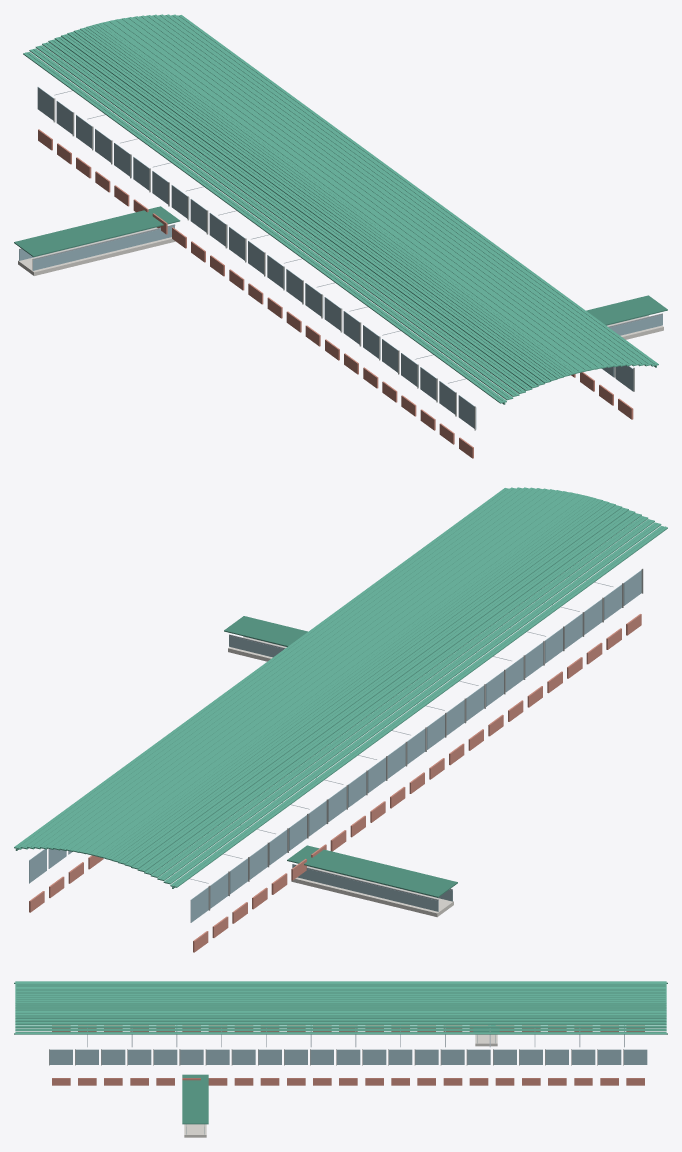
Rendered from station-0-photo-reference.glb.
3 renders of one model, top to bottom at view 1: azimuth 30°, elevation 25°; view 2: azimuth 150°, elevation 25°; view 3: azimuth 270°, elevation 25°, orthographic. The views are drawn at different scales.
Visible parts, largest first — view 1: Station 0 photo-informed architecture and surroundings; view 2: Station 0 photo-informed architecture and surroundings; view 3: Station 0 photo-informed architecture and surroundings.
Boxes of the visible parts, x1,y1,x2,y2 form: Station 0 photo-informed architecture and surroundings: [14, 14, 667, 458]; Station 0 photo-informed architecture and surroundings: [14, 487, 667, 952]; Station 0 photo-informed architecture and surroundings: [14, 981, 667, 1137].
Bounding box in the file's own units: 89 × 20.31 × 175.
